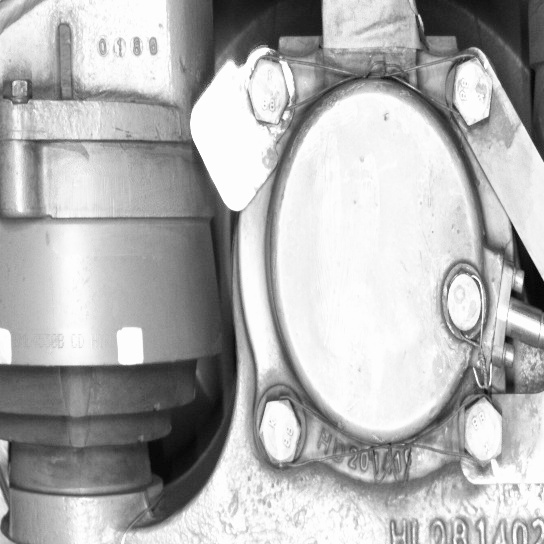IronWire: (239, 49, 500, 131), (250, 390, 510, 472)
Screw: (250, 391, 309, 470), (238, 50, 295, 129), (456, 390, 508, 473), (444, 52, 499, 130), (440, 266, 488, 336)
